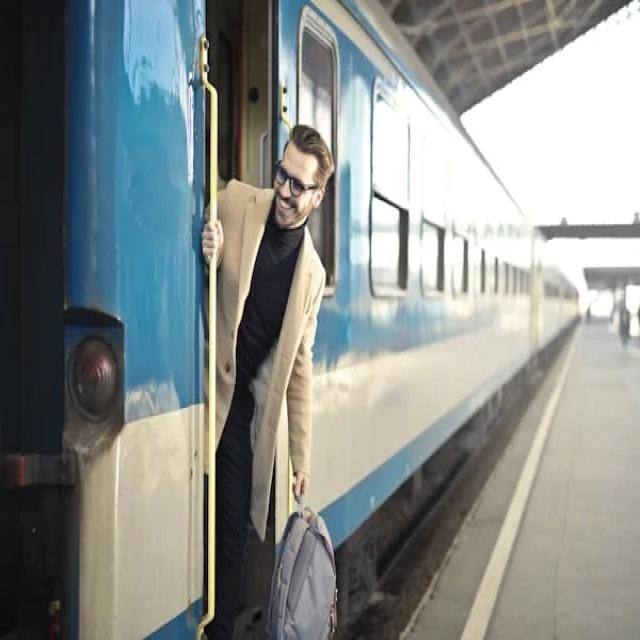Real human 2: (192, 116, 341, 596)
